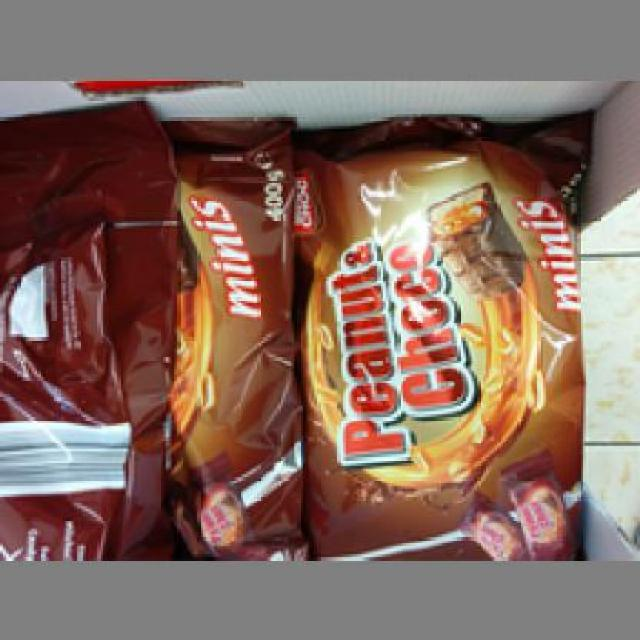Chocolate: (296, 120, 590, 557), (134, 108, 303, 558)
